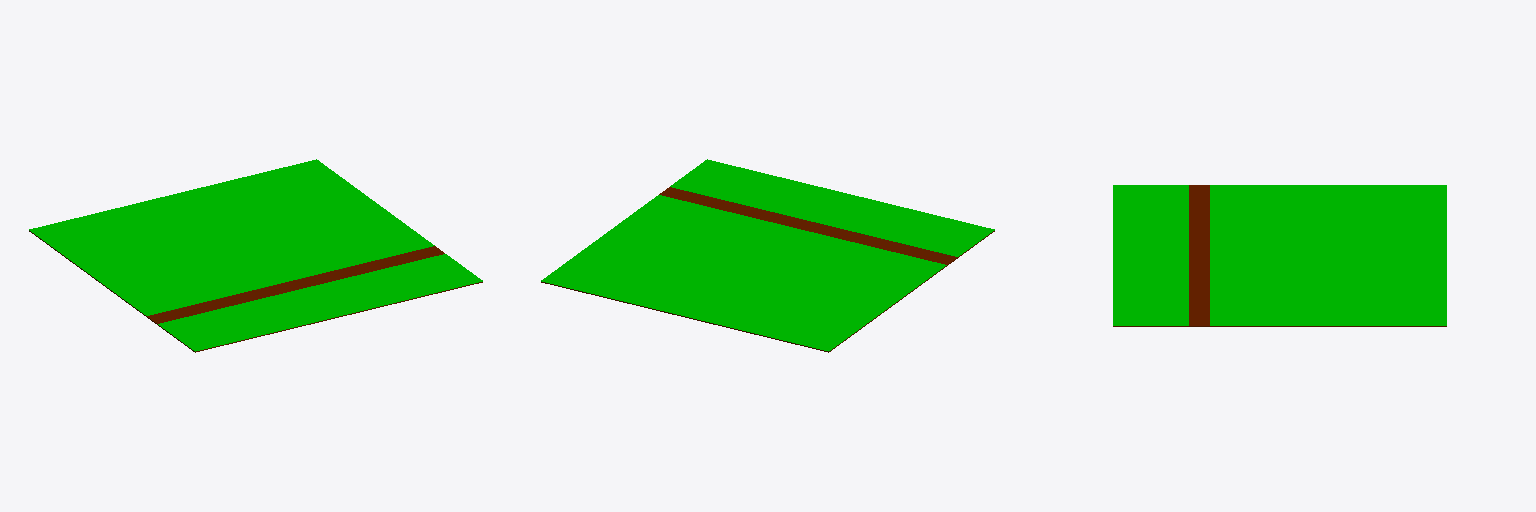
The picture shows the model from 3 angles: view 1: azimuth 30°, elevation 25°; view 2: azimuth 150°, elevation 25°; view 3: azimuth 270°, elevation 25°; orthographic projection.
Visible parts, largest first — view 1: 立方体.962_立方体.2884; view 2: 立方体.962_立方体.2884; view 3: 立方体.962_立方体.2884.
Part boxes in pixels (x1,y1,x2,y2): 立方体.962_立方体.2884: (29,231,482,352); 立方体.962_立方体.2884: (541,187,994,352); 立方体.962_立方体.2884: (1113,185,1446,326).
Bounding box in the file's own units: 62 × 0.2198 × 62.